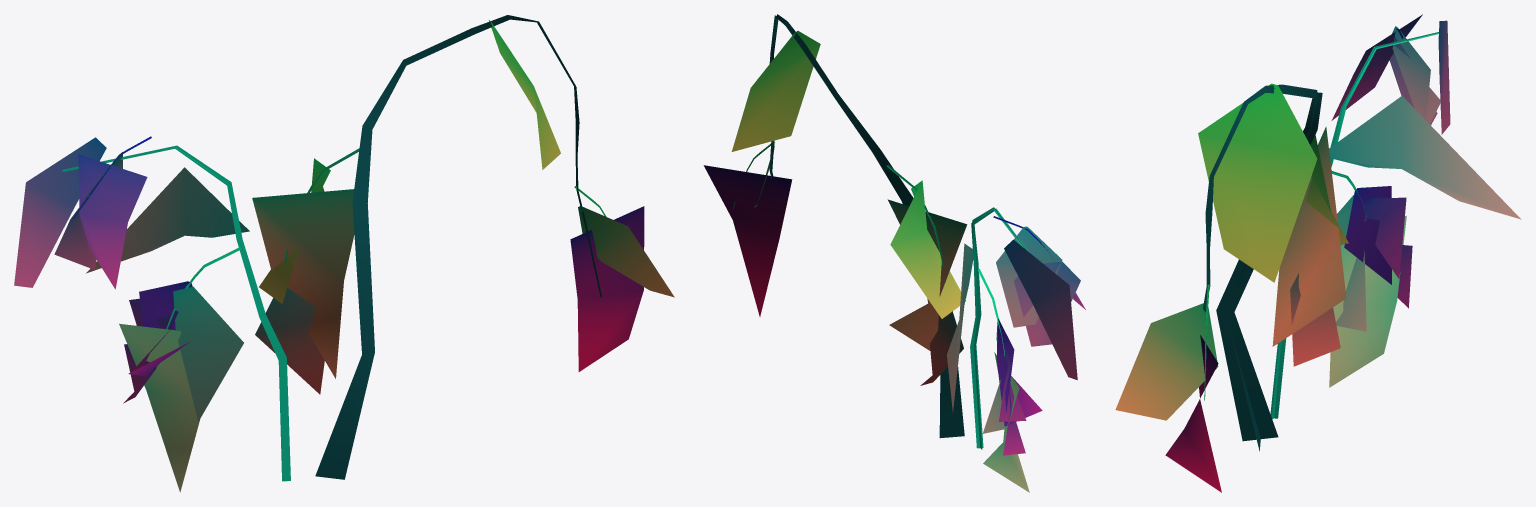
Rendered from Creeping_Saltbush_thckfiqr_Mid_thckfiqr_VarE_LOD1.fbx.
3 views of the same model, side by side, from view 1: azimuth 30°, elevation 25°; view 2: azimuth 150°, elevation 25°; view 3: azimuth 270°, elevation 25° (orthographic). The views are drawn at different scales.
Parts seen in each view (by area): view 1: _1ba2_VarE_LOD2; view 2: _1ba2_VarE_LOD2; view 3: _1ba2_VarE_LOD2.
Boxes of the visible parts, left/top/right/bottom form: _1ba2_VarE_LOD2: left=14, top=15, right=674, bottom=492; _1ba2_VarE_LOD2: left=703, top=14, right=1085, bottom=492; _1ba2_VarE_LOD2: left=1115, top=14, right=1521, bottom=492.
Bounding box in the file's own units: 21.24 × 16.61 × 13.36.
